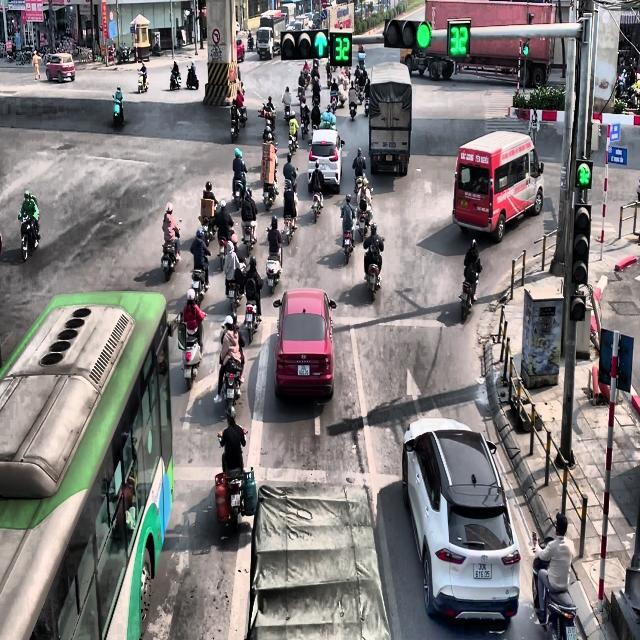lisence_plate: (472, 561, 492, 580), (565, 624, 578, 640), (297, 363, 310, 377), (382, 140, 397, 150), (460, 198, 468, 209), (320, 162, 328, 172), (387, 154, 392, 161)
